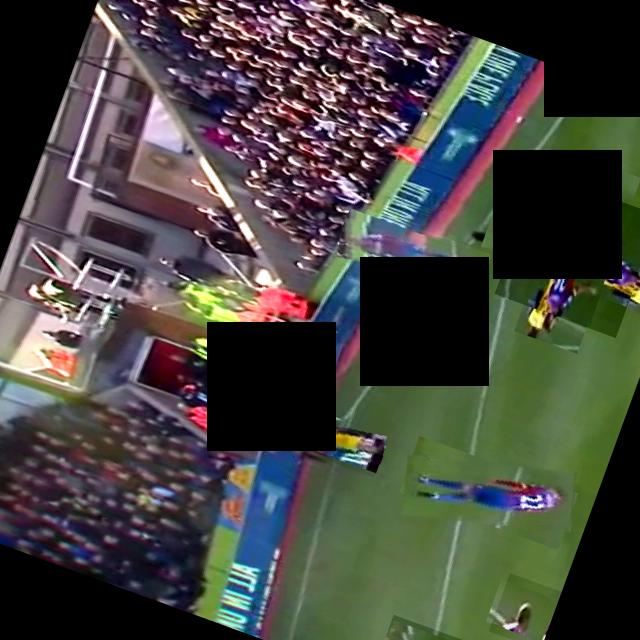referee: (374, 614, 535, 640)
soccer-player: (394, 426, 585, 560), (494, 171, 640, 337), (334, 202, 492, 300), (250, 395, 388, 477), (489, 572, 562, 640)
